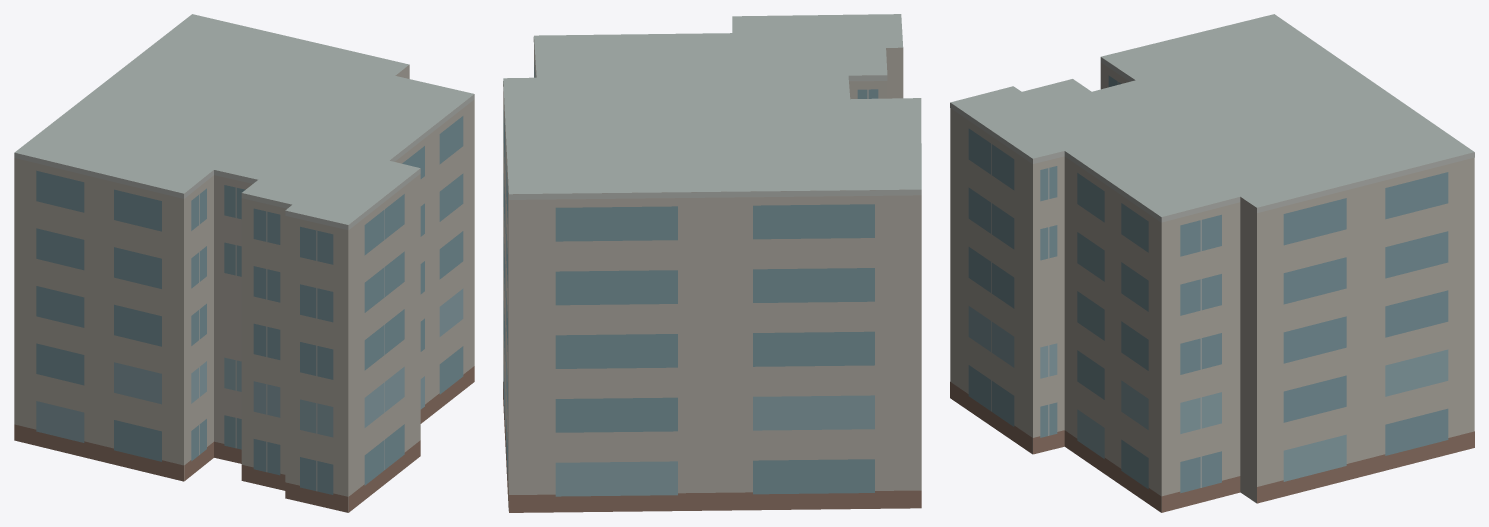
The model's file is survey-upis-32976628.glb.
3 views of the same model, side by side, from view 1: azimuth 30°, elevation 25°; view 2: azimuth 150°, elevation 25°; view 3: azimuth 270°, elevation 25° (orthographic). The views are drawn at different scales.
Parts seen in each view (by area): view 1: survey-upis-32976628.tmp; view 2: survey-upis-32976628.tmp; view 3: survey-upis-32976628.tmp.
Part boxes in pixels (x1=…): survey-upis-32976628.tmp: x1=14, y1=14, x2=474, y2=512; survey-upis-32976628.tmp: x1=503, y1=14, x2=921, y2=512; survey-upis-32976628.tmp: x1=950, y1=14, x2=1474, y2=512.
Size of the model in its own units: 19.61 by 13.3 by 21.39.
